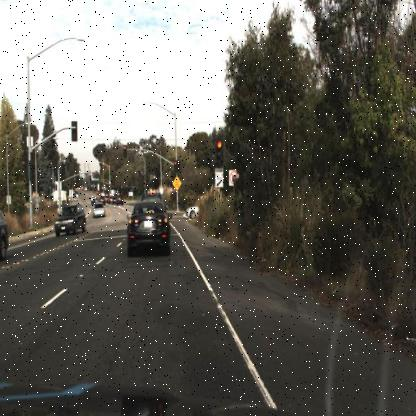car: (125, 200, 169, 257), (54, 204, 85, 238), (184, 199, 206, 220), (184, 202, 202, 219)
trafficLight-Red: (214, 138, 224, 166), (123, 143, 129, 161), (172, 159, 178, 177)
